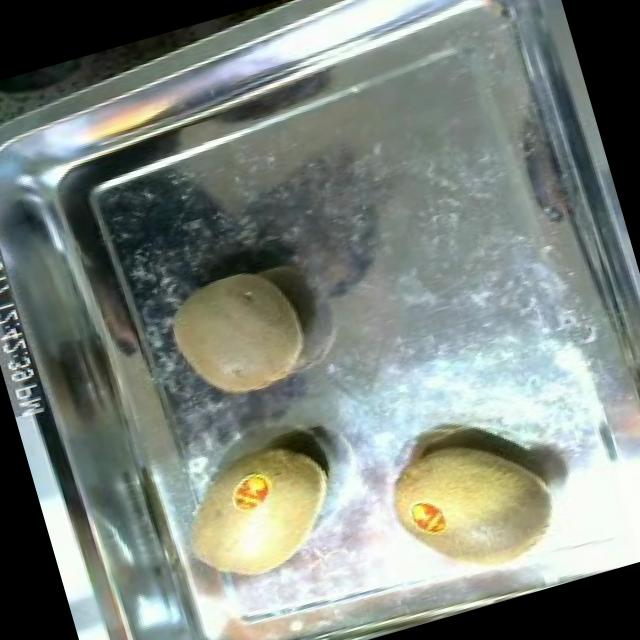Fruit: (372, 406, 578, 603), (159, 424, 356, 600), (148, 248, 326, 419)
